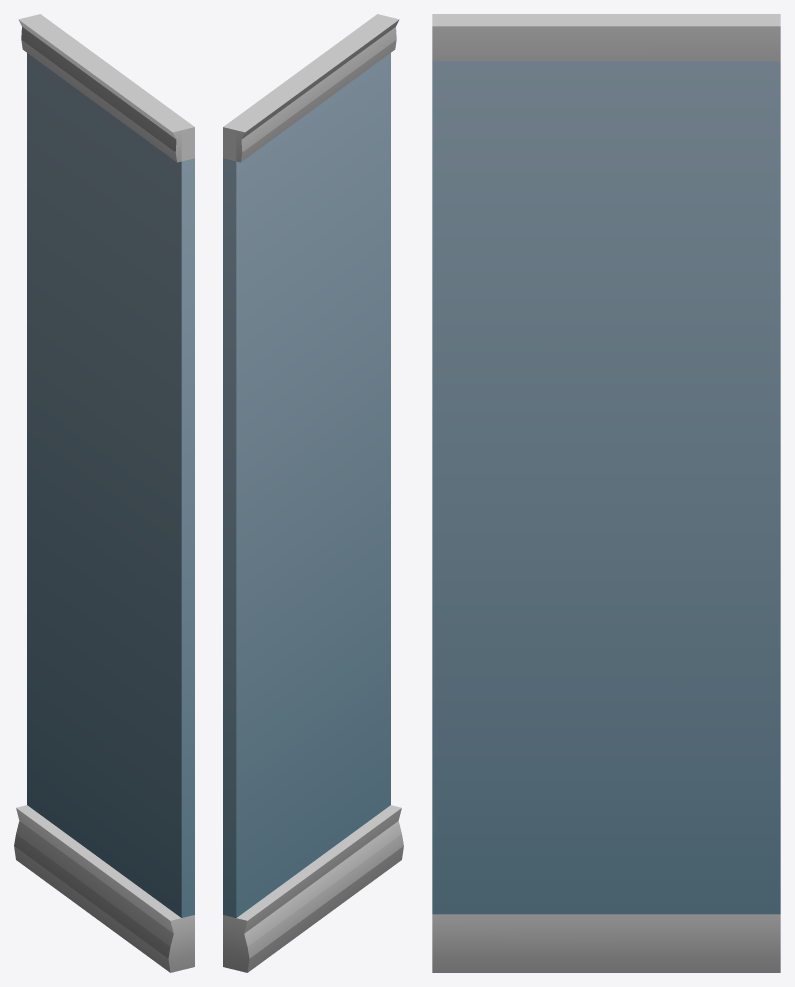
Rendered from SchoolPack2023Wall1.fbx.
3 views of the same model, side by side, from view 1: azimuth 30°, elevation 25°; view 2: azimuth 150°, elevation 25°; view 3: azimuth 270°, elevation 25° (orthographic). The views are drawn at different scales.
Parts seen in each view (by area): view 1: Plane.010; view 2: Plane.010; view 3: Plane.010.
Part boxes in pixels (<box>): Plane.010: <box>14,14,194,972</box>; Plane.010: <box>223,14,403,972</box>; Plane.010: <box>432,14,780,972</box>.
Size of the model in its own units: 19.8 by 600 by 200.
